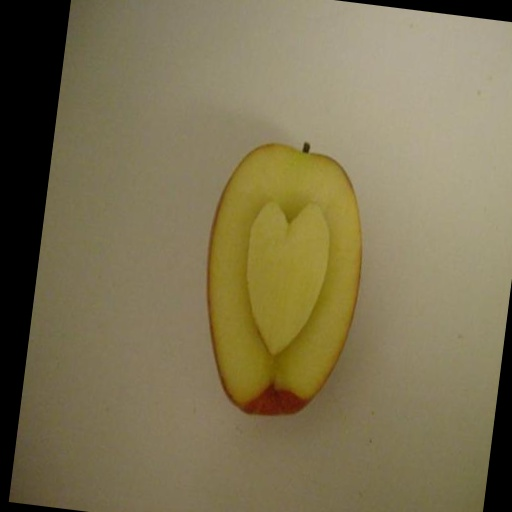fruit: (207, 145, 360, 414)
